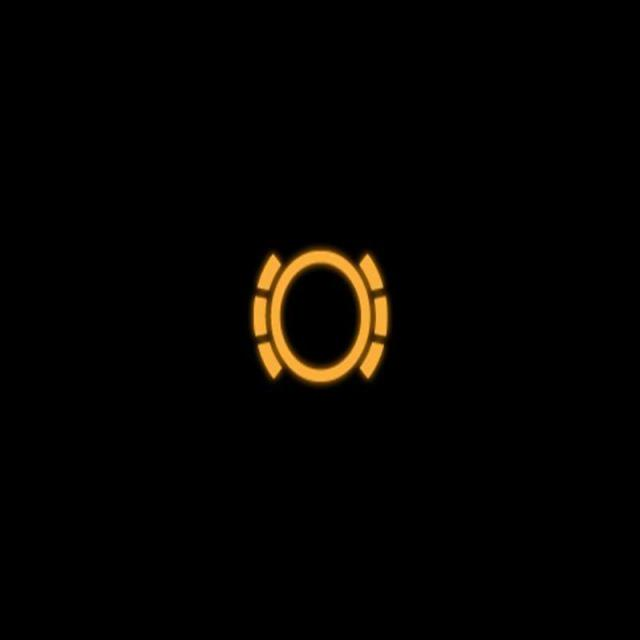kontrolka: (238, 222, 411, 404)
